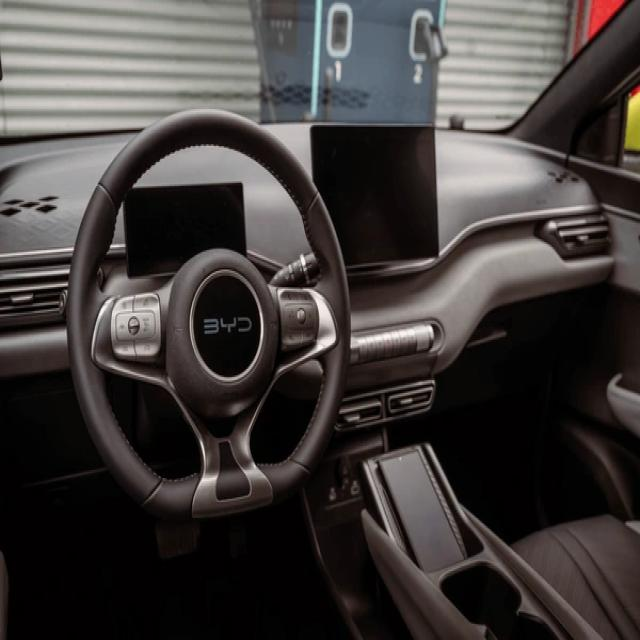byd: (204, 310, 250, 338)
